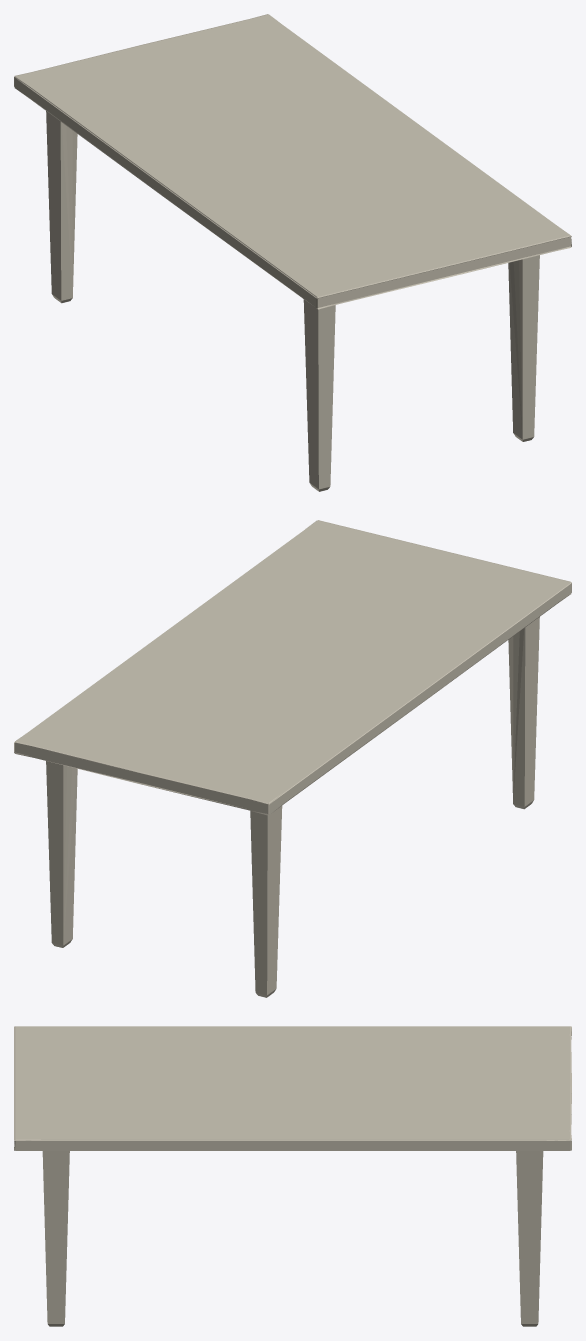
Rendered from Lehrertisch.glb.
The picture shows the model from 3 angles, top to bottom: view 1: azimuth 30°, elevation 25°; view 2: azimuth 150°, elevation 25°; view 3: azimuth 270°, elevation 25°; orthographic projection. The views are drawn at different scales.
Parts seen in each view (by area): view 1: lehrertisch; view 2: lehrertisch; view 3: lehrertisch.
Part boxes in pixels (<box>): lehrertisch: <box>14,14,571,491</box>; lehrertisch: <box>14,520,571,997</box>; lehrertisch: <box>14,1026,571,1326</box>.
Bounding box in the file's own units: 2.11 × 1.69 × 4.36.
